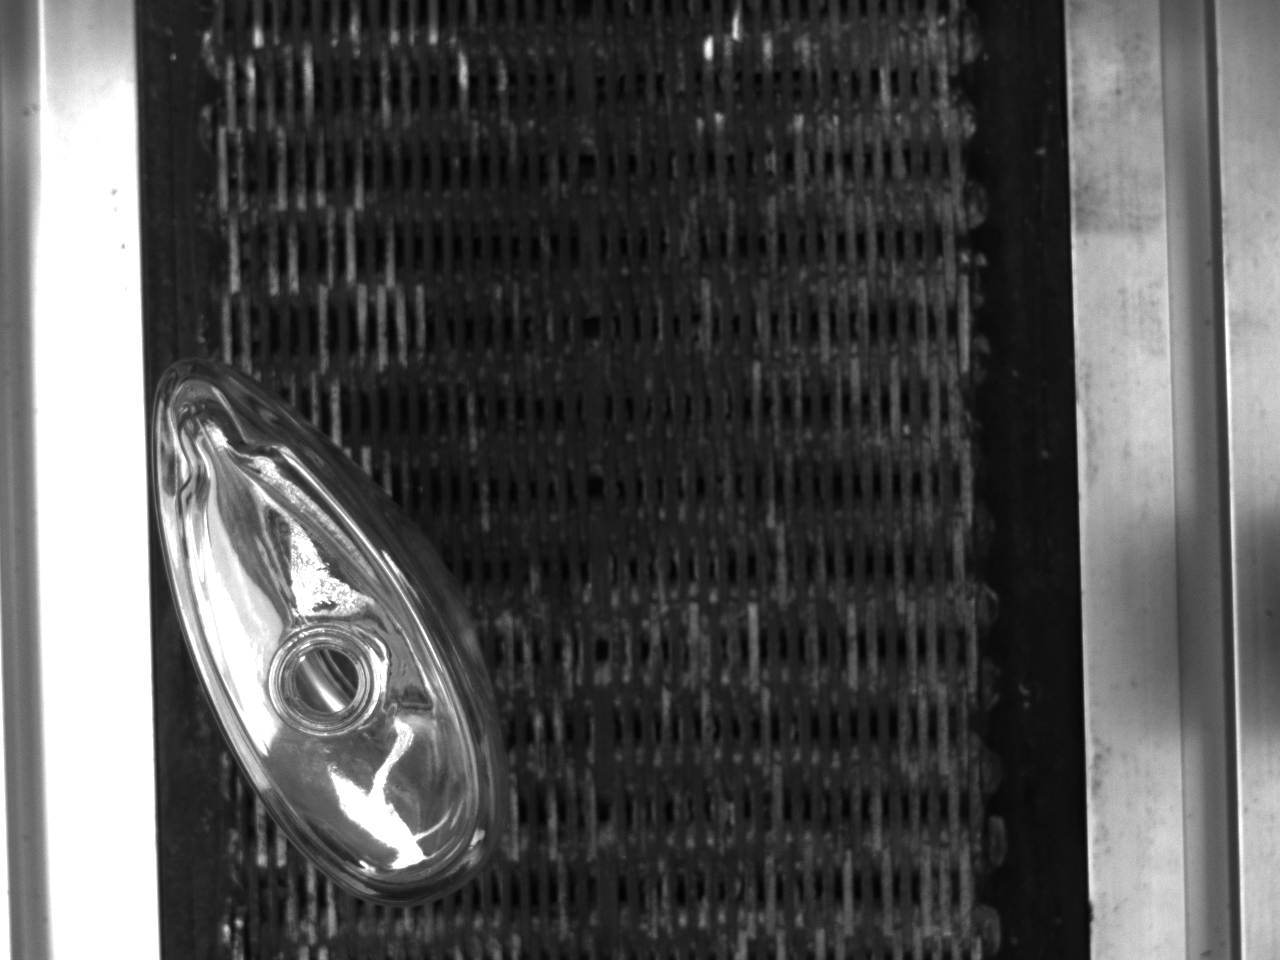bottleneck: (269, 628, 379, 737)
